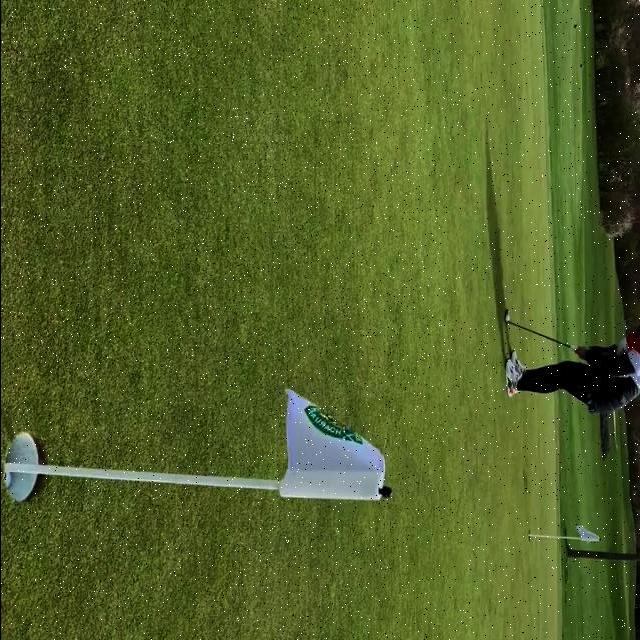golf ball: (505, 316, 509, 321)
golf club-handle: (504, 310, 576, 352)
golf club-head: (503, 309, 507, 323)
